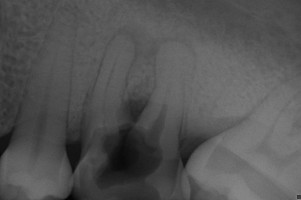Dental Caries: (109, 24, 198, 74), (128, 73, 154, 119)
